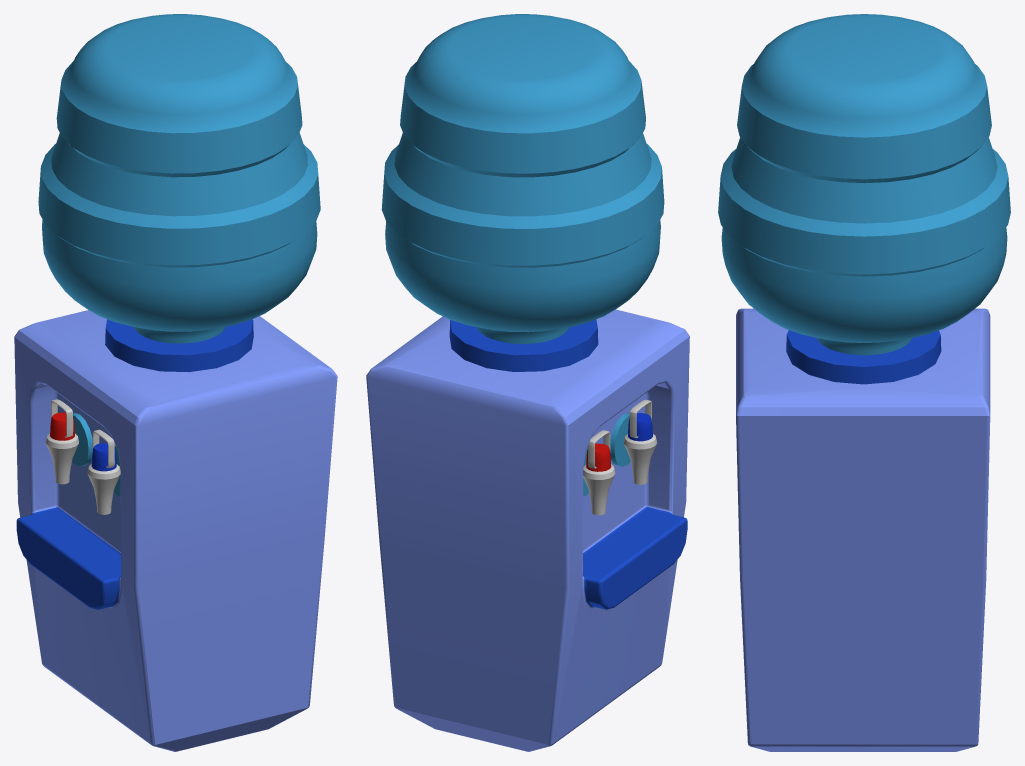
Rendered from Water_machine.fbx.
3 views of the same model, side by side, from view 1: azimuth 30°, elevation 25°; view 2: azimuth 150°, elevation 25°; view 3: azimuth 270°, elevation 25° (orthographic). The views are drawn at different scales.
Parts seen in each view (by area): view 1: Cylinder.003; view 2: Cylinder.003; view 3: Cylinder.003.
Boxes of the visible parts, x1,y1,x2,y2 form: Cylinder.003: (14,14,337,751); Cylinder.003: (366,14,689,751); Cylinder.003: (718,14,1010,751).
Size of the model in its own units: 93.64 by 240 by 93.64.
